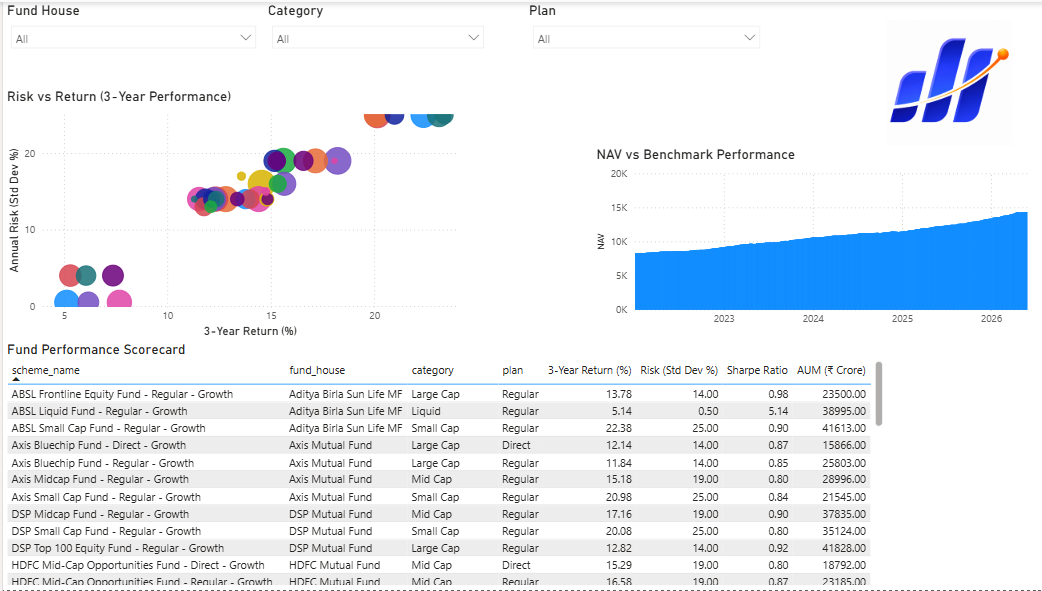

The page's visual inventory and layout, read from the dashboard file:
{"tool":"powerbi","page":{"name":"Fund Performance","canvas":[1280,720],"ordinal":1},"visuals":[{"type":"scatterChart","title":"Risk vs Return (3-Year Performance)","fields":{"X":["Sum(07_scheme_performance_cleaned.return_3yr_pct)"],"Y":["Sum(07_scheme_performance_cleaned.std_dev_ann_pct)"],"Size":["Sum(07_scheme_performance_cleaned.aum_crore)"],"Series":["07_scheme_performance_cleaned.fund_house"],"Category":["07_scheme_performance_cleaned.scheme_name"]},"box":[0,104.8,568,310.7],"z":0},{"type":"tableEx","title":"Fund Performance Scorecard","fields":{"Values":["07_scheme_performance_cleaned.scheme_name","07_scheme_performance_cleaned.fund_house","07_scheme_performance_cleaned.category","07_scheme_performance_cleaned.plan","Sum(07_scheme_performance_cleaned.return_3yr_pct)","Sum(07_scheme_performance_cleaned.std_dev_ann_pct)","Sum(07_scheme_performance_cleaned.sharpe_ratio)","Sum(07_scheme_performance_cleaned.aum_crore)"]},"box":[0,416,1082.8,303.1],"z":1000},{"type":"slicer","title":"Fund House","fields":{"Values":["01_fund_master_cleaned.fund_house"]},"box":[0,0,319.8,91.9],"z":2000},{"type":"slicer","title":"Category","fields":{"Values":["01_fund_master_cleaned.sub_category"]},"box":[319.8,0,279.4,91.9],"z":3000},{"type":"slicer","title":"Plan","fields":{"Values":["01_fund_master_cleaned.plan"]},"box":[639.7,0,297.8,91.9],"z":4000},{"type":"lineClusteredColumnComboChart","title":"NAV vs Benchmark Performance","fields":{"Category":["02_nav_history_cleaned.date"],"Y":["Sum(02_nav_history_cleaned.nav)"]},"box":[722.4,176.5,551.5,239],"z":5000},{"type":"image","box":[1058.8,22.1,202.2,154.4],"z":5001}]}

Visuals, with their boxes in screenshot pixels (x1, y1, x2, y2), scaled from the page's 1280x720 canvas onto the 1042x591 screenshot:
"Risk vs Return (3-Year Performance)" scatterChart: <bbox>0, 86, 462, 341</bbox>
"Fund Performance Scorecard" tableEx: <bbox>0, 341, 881, 590</bbox>
"Fund House" slicer: <bbox>0, 0, 260, 75</bbox>
"Category" slicer: <bbox>260, 0, 488, 75</bbox>
"Plan" slicer: <bbox>521, 0, 763, 75</bbox>
"NAV vs Benchmark Performance" lineClusteredColumnComboChart: <bbox>588, 145, 1037, 341</bbox>
image: <bbox>862, 18, 1027, 145</bbox>
